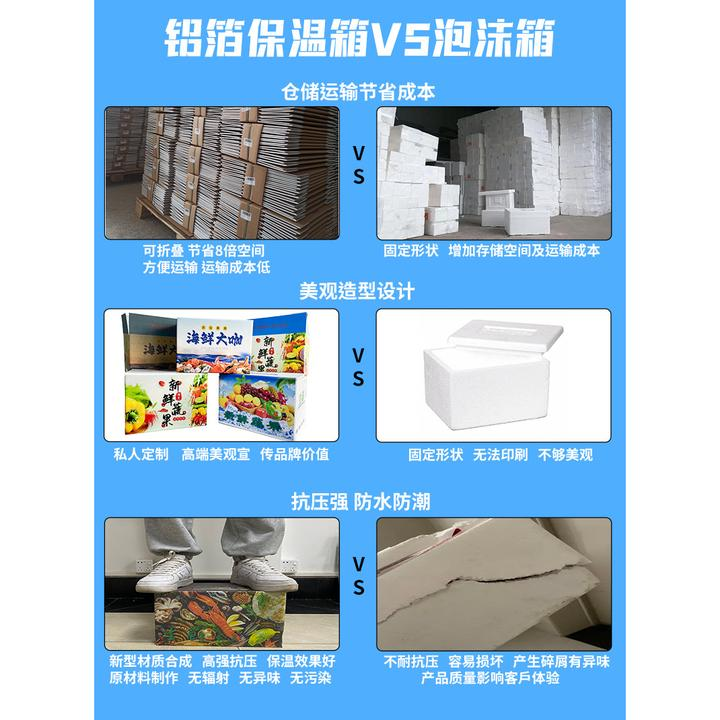泡沫箱: (424, 320, 562, 431)
